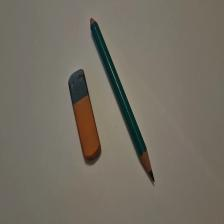eraser: (69, 69, 102, 160)
pencil: (91, 18, 156, 183)
